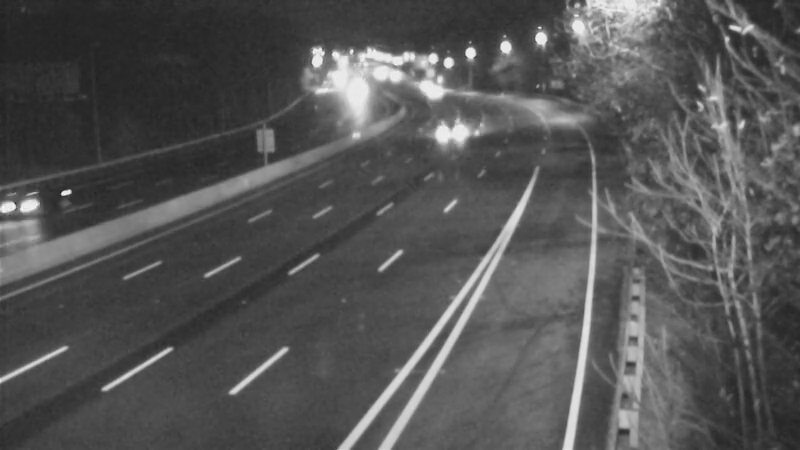vehicle: (1, 162, 78, 242), (407, 68, 457, 118), (430, 105, 480, 155)
